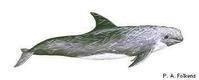fish: (11, 11, 183, 69)
